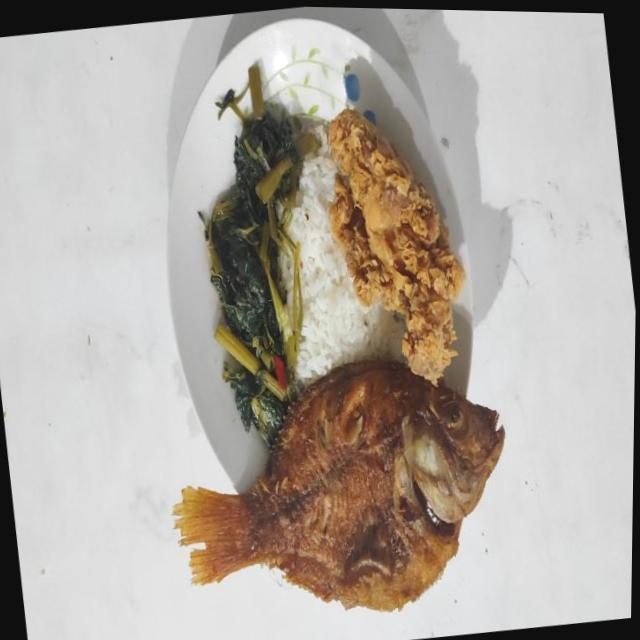ikan_mujair: (173, 359, 504, 610)
nasi_putih: (288, 125, 407, 389)
tumis_kangkung: (206, 64, 320, 446)
